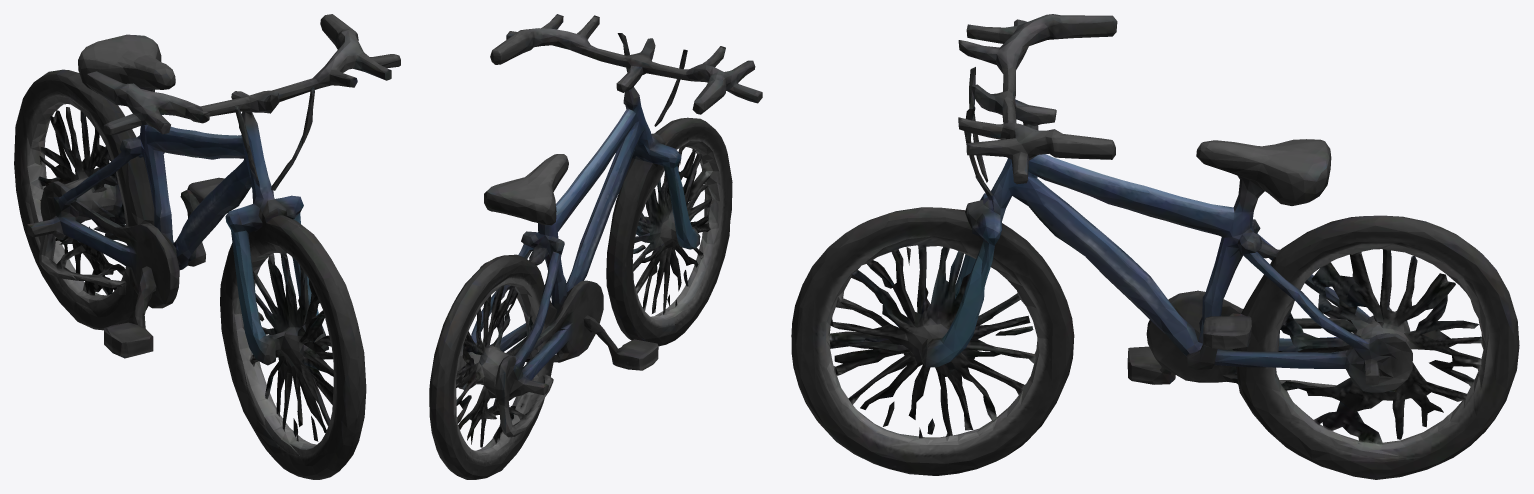
The model's file is bicycle.glb.
3 renders of one model, left to right at view 1: azimuth 30°, elevation 25°; view 2: azimuth 150°, elevation 25°; view 3: azimuth 270°, elevation 25°, orthographic. The views are drawn at different scales.
Visible parts, largest first — view 1: world; view 2: world; view 3: world.
Part boxes in pixels (x1,y1,x2,y2): world: [14, 14, 400, 479]; world: [429, 14, 762, 479]; world: [791, 14, 1519, 479].
Size of the model in its own units: 0.4988 by 0.6151 by 1.
1 material, 1 textured.
